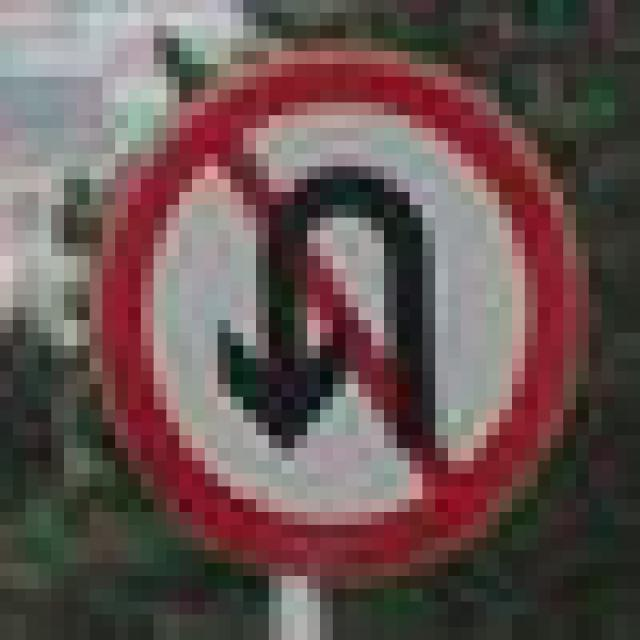u turn prohibited: (74, 50, 576, 573)
